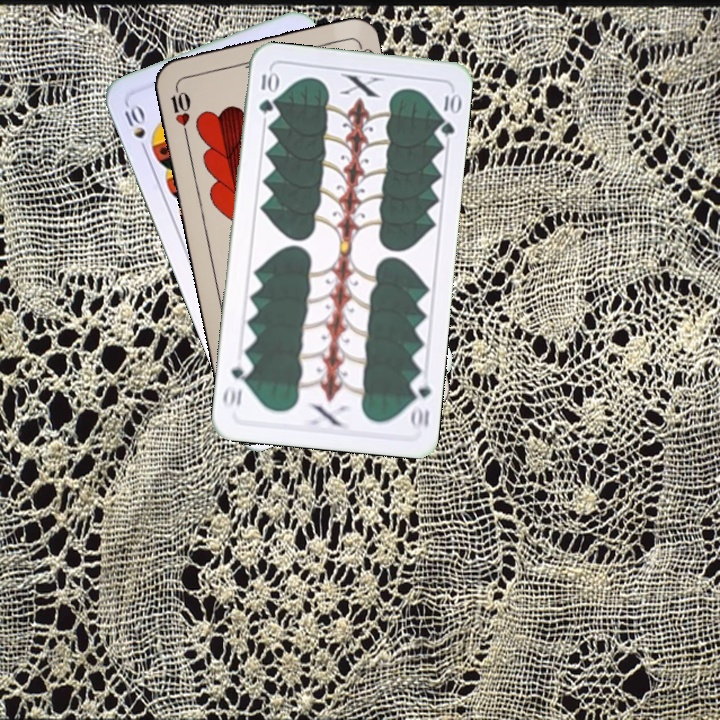G10: (406, 372, 434, 432), (255, 68, 278, 116)
H10: (166, 79, 193, 138)
S10: (120, 100, 151, 157)
